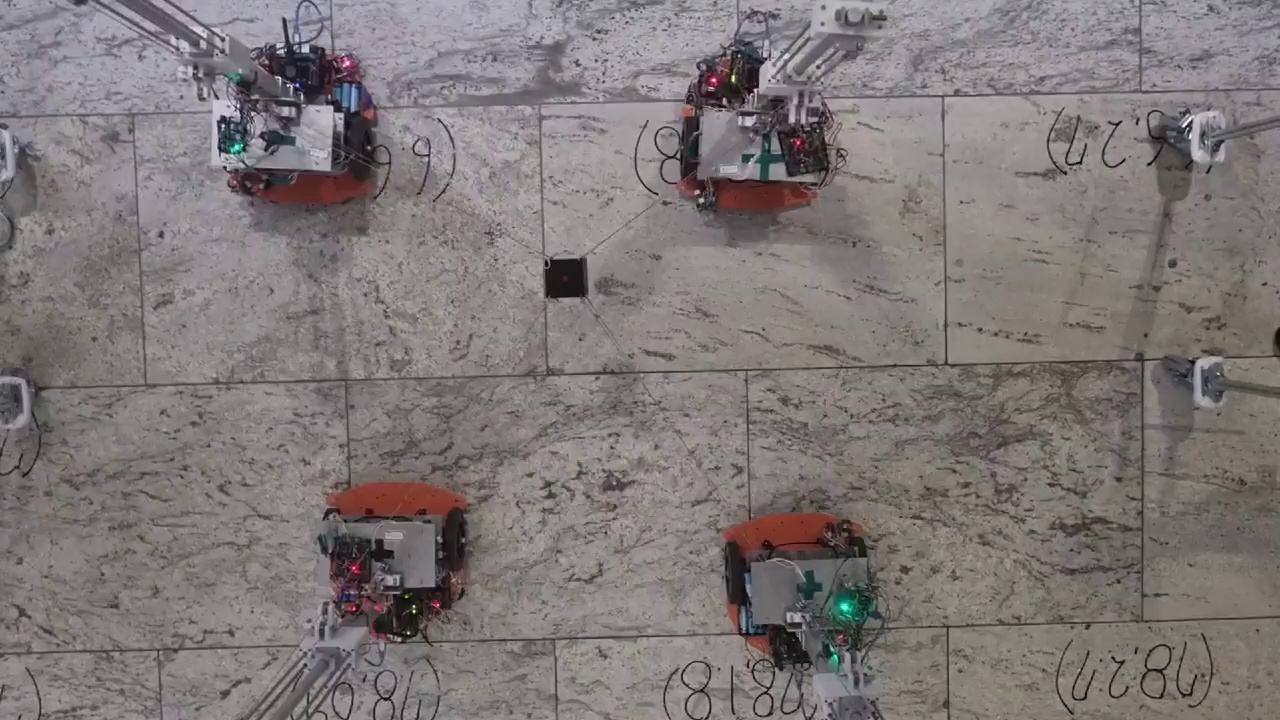e0: (545, 258, 588, 298)
r1: (725, 536, 869, 604)
r2: (678, 116, 825, 187)
r3: (221, 111, 373, 181)
r4: (320, 507, 467, 572)
y_+_axis_vector: (548, 366, 946, 375)
y_-_axis_vector: (146, 376, 548, 386)
